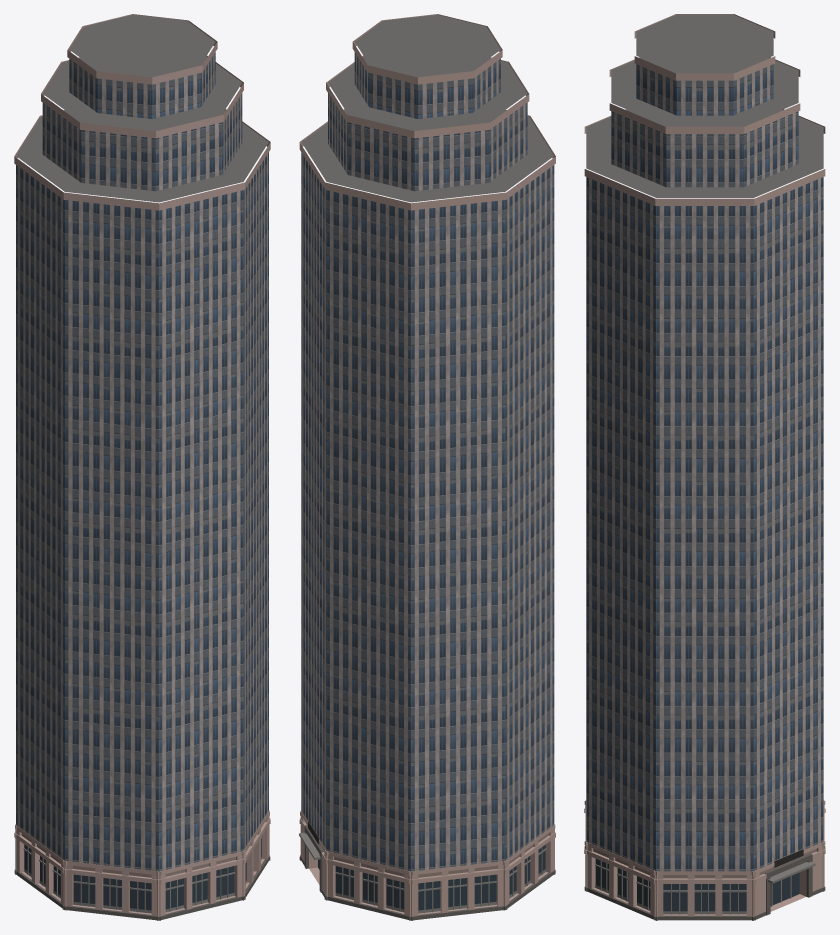
The model's file is thousand_second.glb.
The picture shows the model from 3 angles, left to right: view 1: azimuth 30°, elevation 25°; view 2: azimuth 150°, elevation 25°; view 3: azimuth 270°, elevation 25°; orthographic projection.
Parts seen in each view (by area): view 1: thousand_second; view 2: thousand_second; view 3: thousand_second.
Boxes of the visible parts, box(x1,y1,x2,y2) form: thousand_second: box(14, 14, 270, 920); thousand_second: box(299, 14, 555, 920); thousand_second: box(584, 14, 825, 920).
Bounding box in the file's own units: 35.72 × 135 × 35.72.
Materials: 2 (2 with a texture image).
